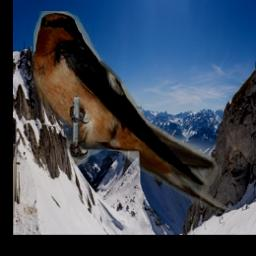Swallow: (33, 11, 238, 210)
